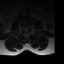CCS_normal: (25, 26, 27, 32)
LFS_normal: (29, 26, 30, 30)
LLS_normal: (27, 27, 28, 31)
RFS_stenosis: (22, 26, 24, 30)
RLS_normal: (24, 26, 25, 31)
